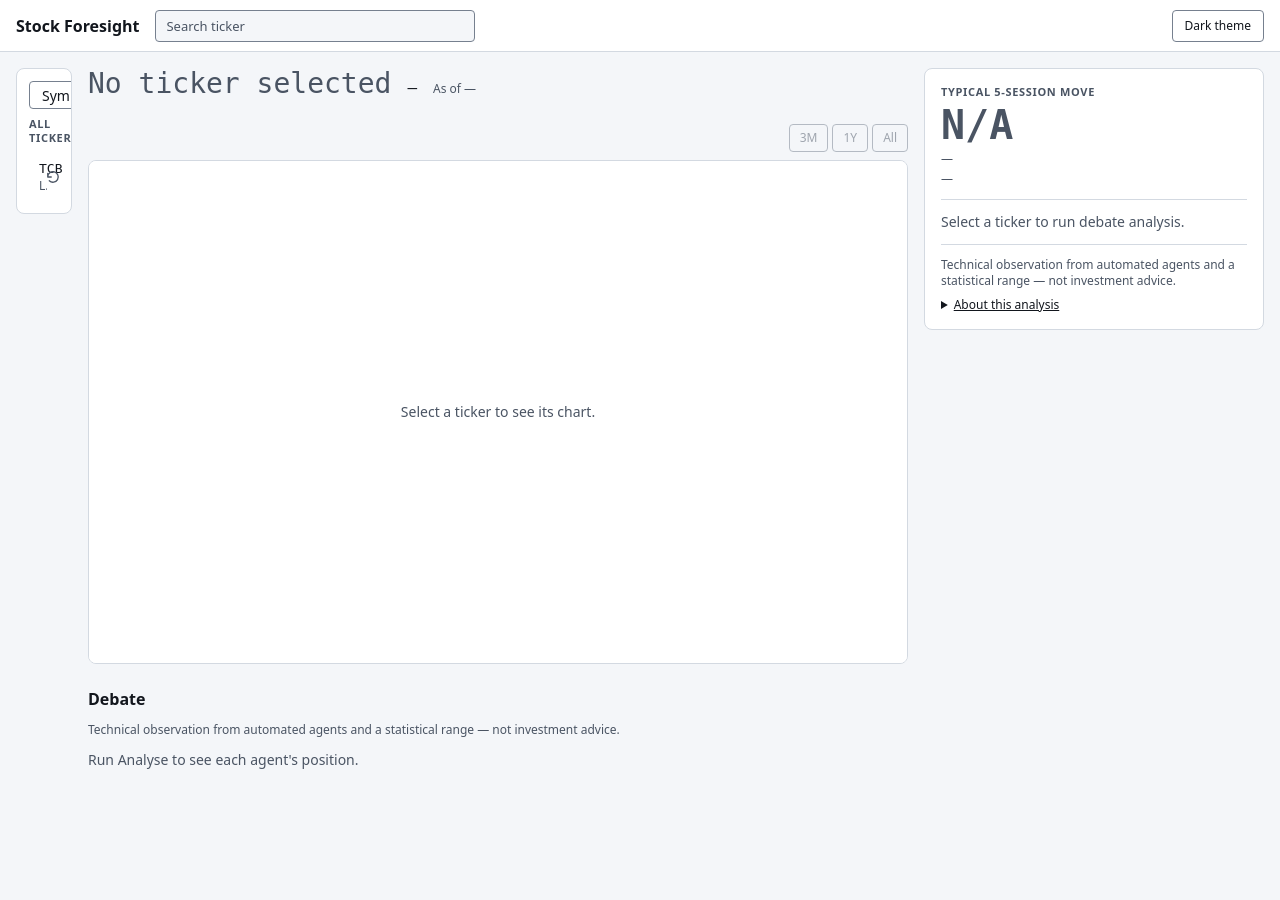
Test: at 1440px (wide mode) with a result present › shows the range check once and the Verdict panel's inline disclaimer once, and no Key tension anywhere
Step 1. Type "tcb" into the field labelled "Search ticker" → [316, 26], box [156,10,476,42]
Then press Enter
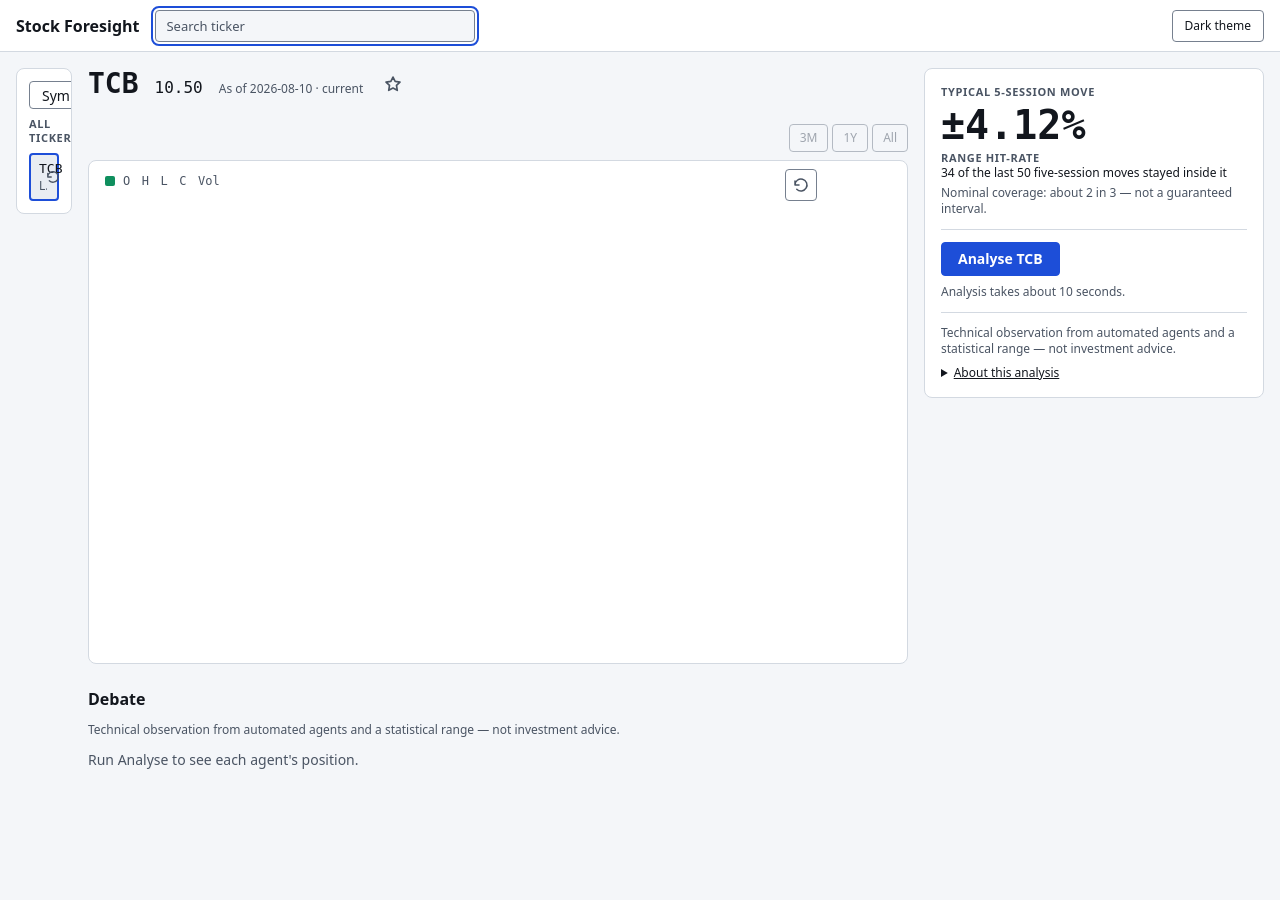
Step 2. Click the button "Analyse TCB" → [1000, 259], box [941,242,1060,276]
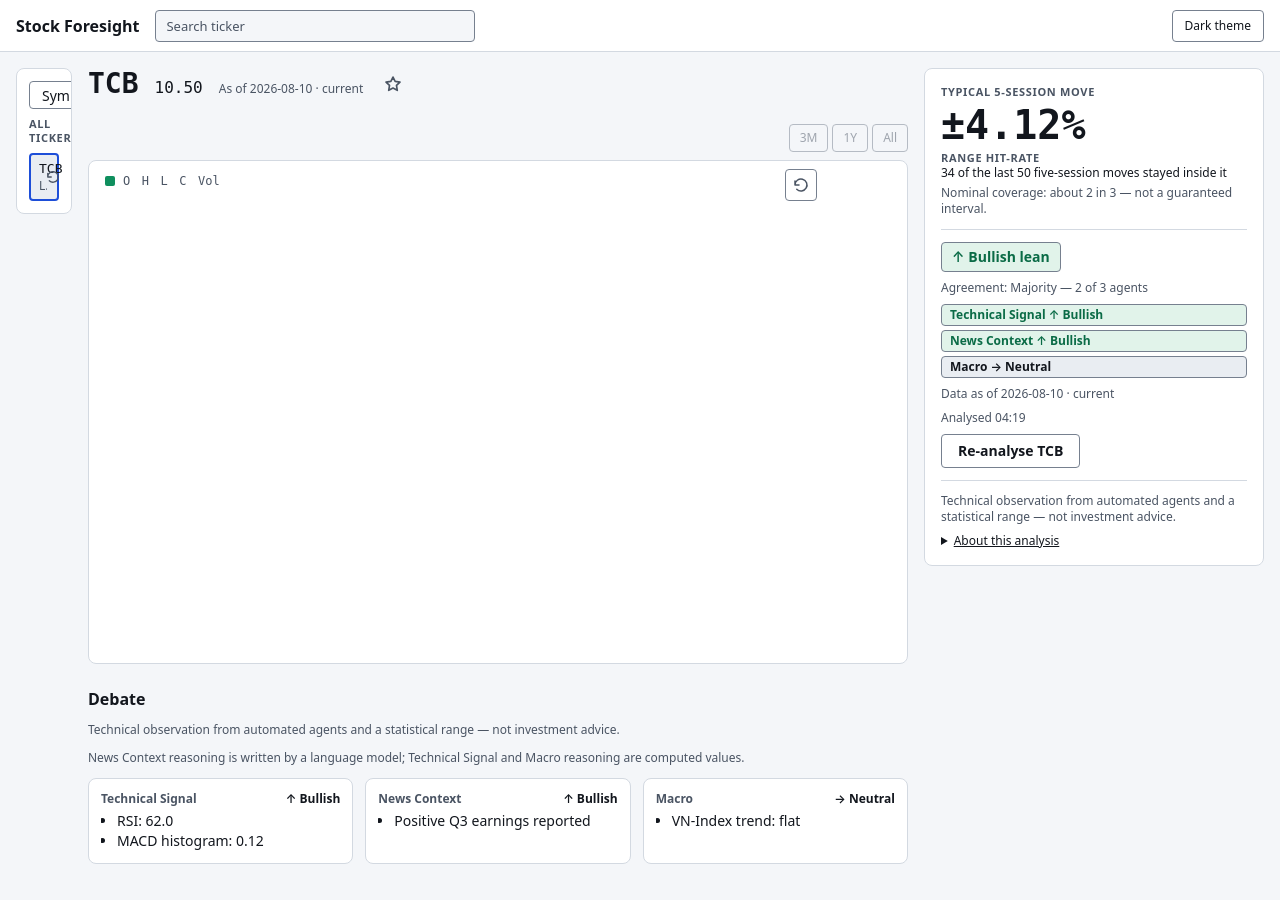
Expected: the text "Technical observation from automated agents and a statistical range — not investment advice." is shown once, [941,493,1247,525]
Expected: the text "34 of the last 50 five-session moves stayed inside it" is shown once, [941,165,1247,181]
Expected: the text "Bullish lean" is shown, [968,247,1050,266]
